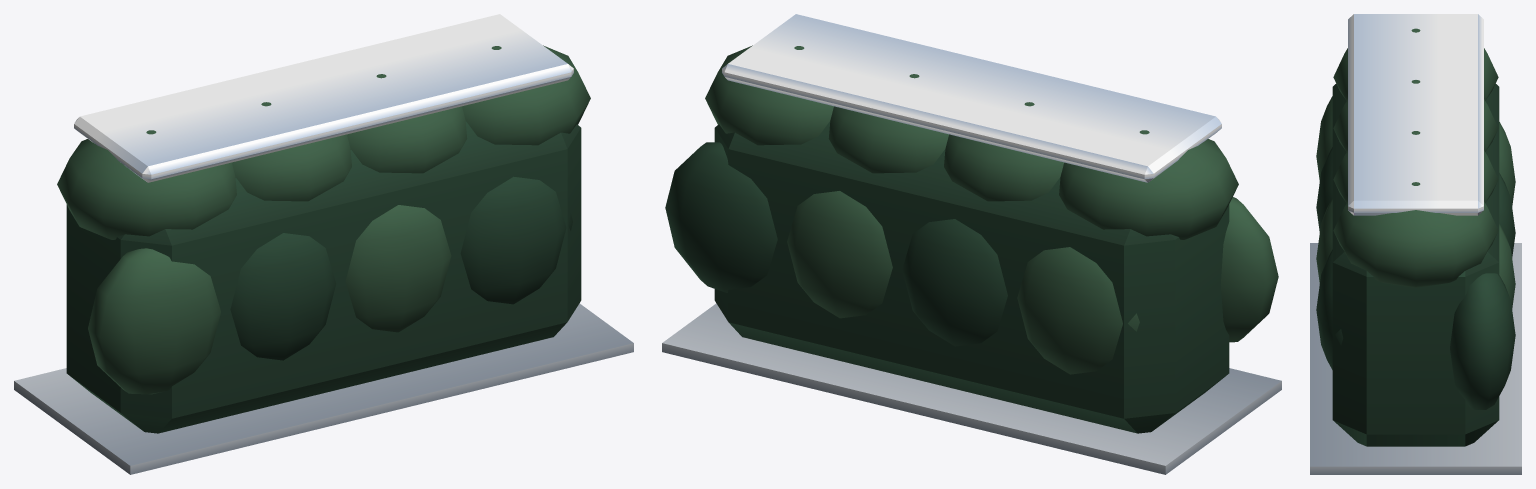
Rendered from ck_hedge_row.fbx.
The picture shows the model from 3 angles, left to right: view 1: azimuth 30°, elevation 25°; view 2: azimuth 150°, elevation 25°; view 3: azimuth 270°, elevation 25°; orthographic projection. The views are drawn at different scales.
Visible parts, largest first — view 1: ck_hedge_row; view 2: ck_hedge_row; view 3: ck_hedge_row.
Boxes of the visible parts, bbox=[...] form: ck_hedge_row: bbox=[14, 14, 633, 474]; ck_hedge_row: bbox=[662, 14, 1281, 474]; ck_hedge_row: bbox=[1310, 14, 1521, 474].
Bounding box in the file's own units: 740 × 375 × 281.
